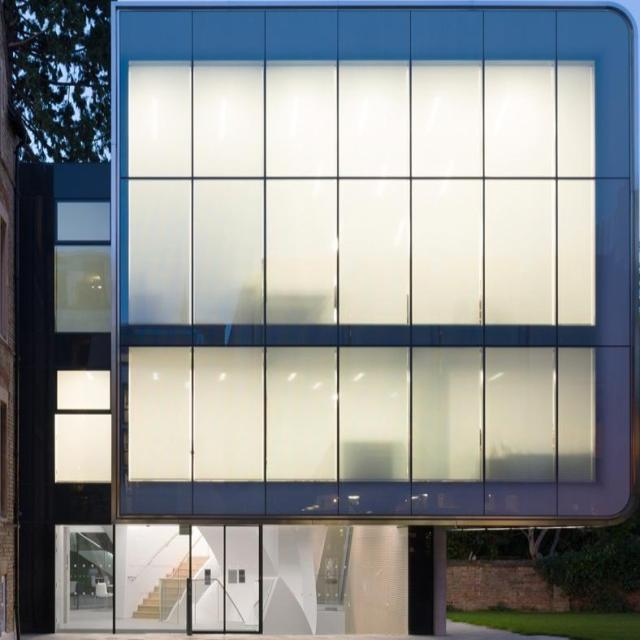door: (188, 521, 262, 638)
wall: (13, 0, 637, 639)
windows: (123, 12, 597, 484), (53, 525, 410, 638), (51, 198, 110, 332), (54, 369, 113, 482)
